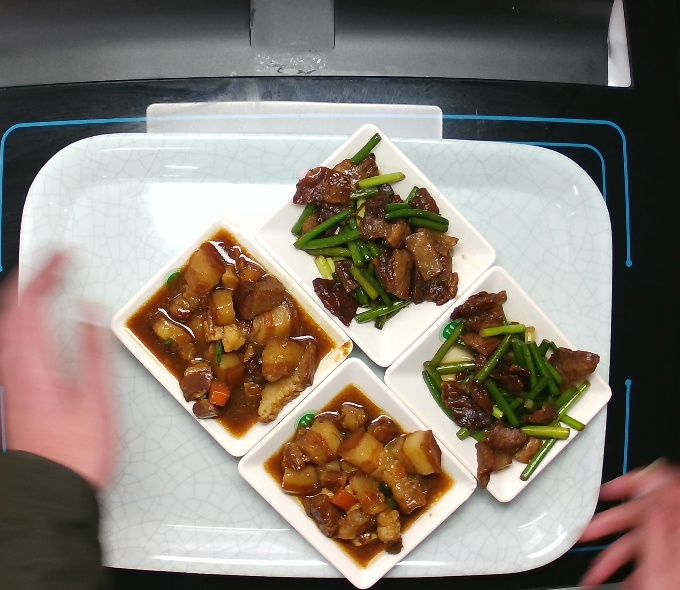wcq-HongShaoRou: (156, 244, 320, 425), (288, 388, 438, 559)
wcq-SuanMiaoChaoRou: (440, 289, 606, 477), (296, 155, 463, 325)
